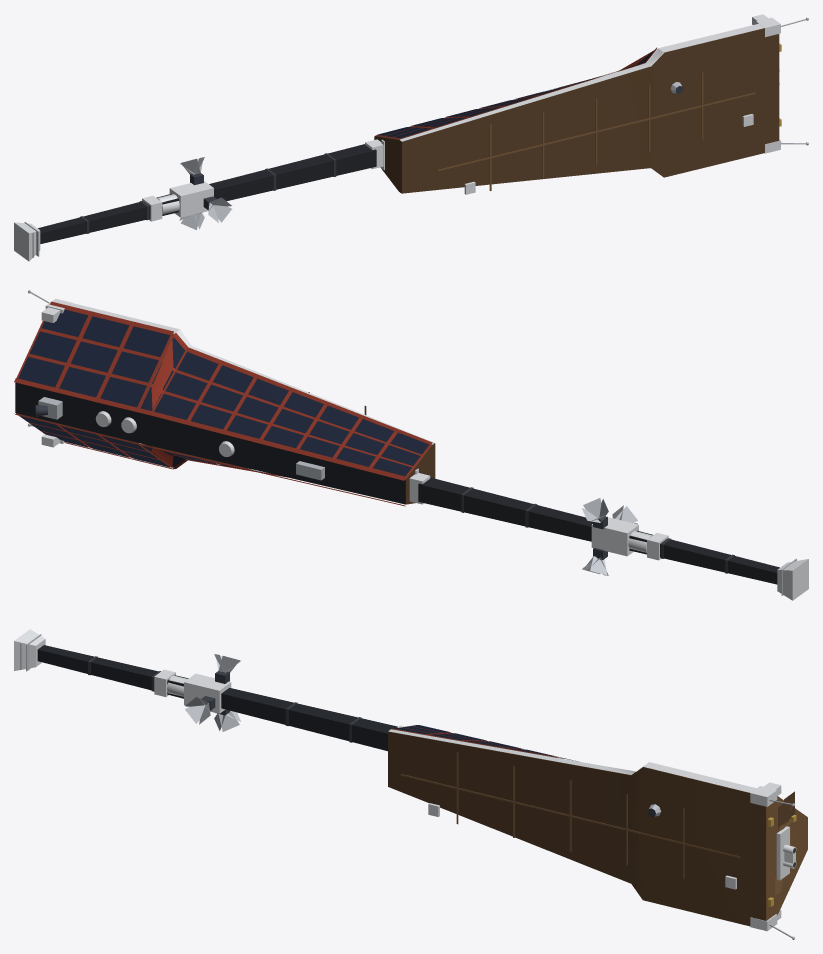
Rendered from swarm.glb.
3 views of the same model, one above another, from view 1: azimuth 30°, elevation 25°; view 2: azimuth 150°, elevation 25°; view 3: azimuth 330°, elevation 25° (orthographic). The views are drawn at different scales.
Parts seen in each view (by area): view 1: foil, body, solar-panel; view 2: solar-panel, foil, body; view 3: foil, body, solar-panel.
Boxes of the visible parts, bbox=[...] form: foil: bbox=[38, 28, 781, 243]; body: bbox=[14, 14, 808, 261]; solar-panel: bbox=[375, 47, 656, 139]; solar-panel: bbox=[14, 301, 432, 506]; foil: bbox=[15, 334, 779, 584]; body: bbox=[28, 290, 808, 600]; foil: bbox=[37, 645, 807, 926]; body: bbox=[14, 629, 796, 939]; solar-panel: bbox=[392, 725, 578, 761].
Bounding box in the file's own units: 9.51 × 1.56 × 1.17.
